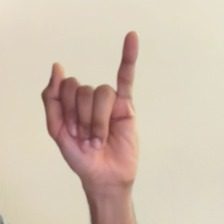I: (27, 21, 169, 195)
